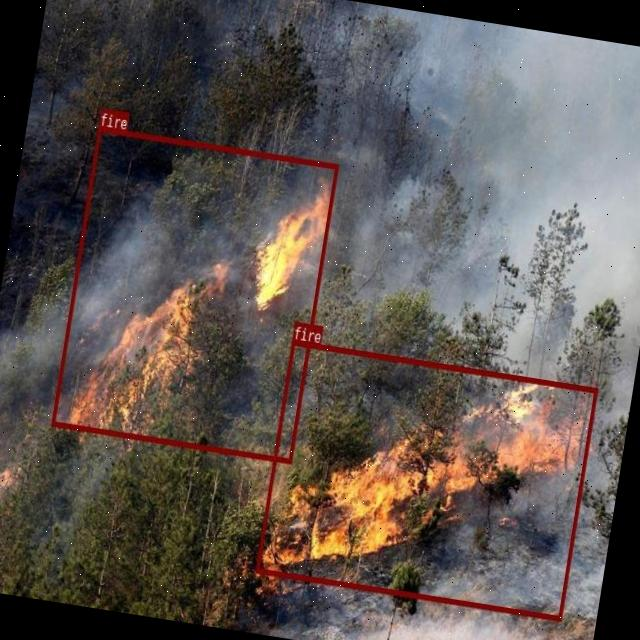fire: (255, 338, 598, 620), (52, 126, 338, 463)
